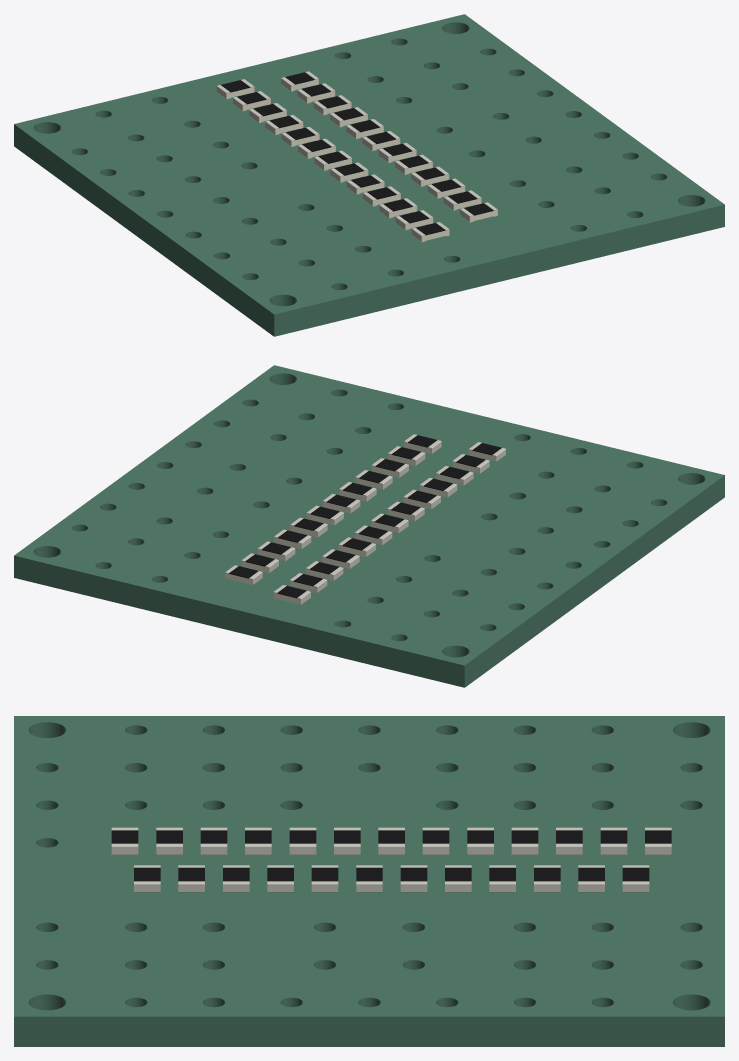
The model's file is PCB_Final.glb.
3 renders of one model, top to bottom at view 1: azimuth 30°, elevation 25°; view 2: azimuth 150°, elevation 25°; view 3: azimuth 270°, elevation 25°, orthographic. The views are drawn at different scales.
Parts seen in each view (by area): view 1: =>[0:1:1:3], Res15, Res1, Res16, Res23, Res8, Res13, Res9, Res22, Res24, Res11, Res12 (+14 smaller); view 2: =>[0:1:1:3], Res25, Res24, Res14, Res17, Res7, Res6, Res18, Res16, Res2, Res3, Res4 (+14 smaller); view 3: =>[0:1:1:3], Res11, Res9, Res14, Res19, Res6, Res21, Res4, Res2, Res13, Res23, Res8 (+14 smaller).
Part boxes in pixels (x1,y1,x2,y2): =>[0:1:1:3]: (14,14,724,336); Res15: (297,83,335,103); Res1: (216,79,254,99); Res16: (313,95,351,115); Res23: (427,178,465,198); Res8: (330,162,368,182); Res13: (411,222,449,242); Res9: (346,174,384,194); Res22: (411,166,449,186); Res24: (443,190,481,210); Res11: (379,198,417,218); Res12: (395,210,433,230); =>[0:1:1:3]: (14,365,724,687); Res25: (403,434,441,454); Res24: (387,446,425,466); Res14: (224,565,262,585); Res17: (273,529,311,549); Res7: (370,513,408,533); Res6: (354,525,392,545); Res18: (289,517,327,537); Res16: (257,541,295,561); Res2: (289,573,327,593); Res3: (305,561,343,581); Res4: (321,549,359,569); =>[0:1:1:3]: (14,716,724,1046); Res11: (200,827,227,854); Res9: (289,827,316,854); Res14: (622,865,649,892); Res19: (400,865,427,892); Res6: (422,827,449,854); Res21: (311,865,338,892); Res4: (511,827,538,854); Res2: (600,827,627,854); Res13: (111,827,138,854); Res23: (223,865,249,892); Res8: (334,827,360,854).
Bounding box in the file's own units: 0.032 × 0.00204 × 0.032.
